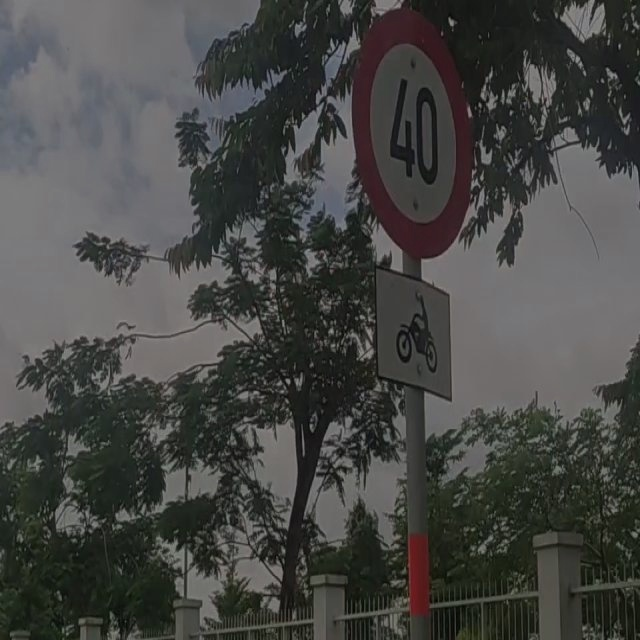P.127*40: (350, 5, 480, 263)
S.505a*Xe may: (369, 261, 461, 411)
